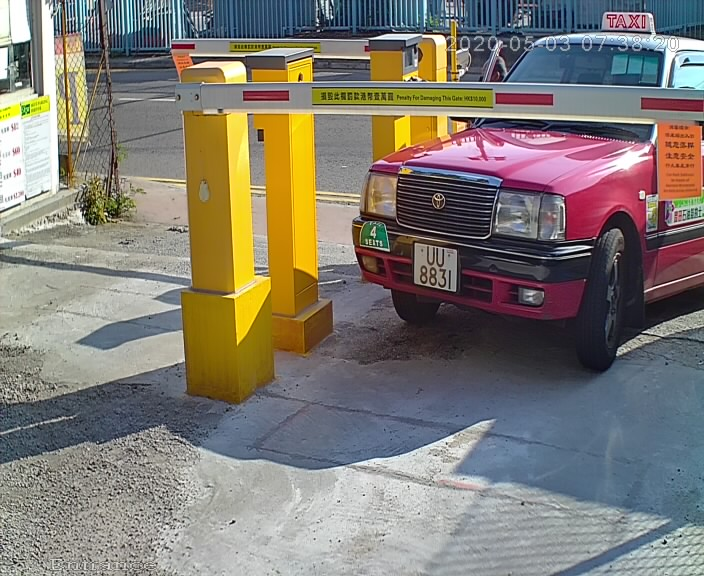taxi: (344, 4, 704, 340)
taxi_mark: (353, 211, 403, 265)
